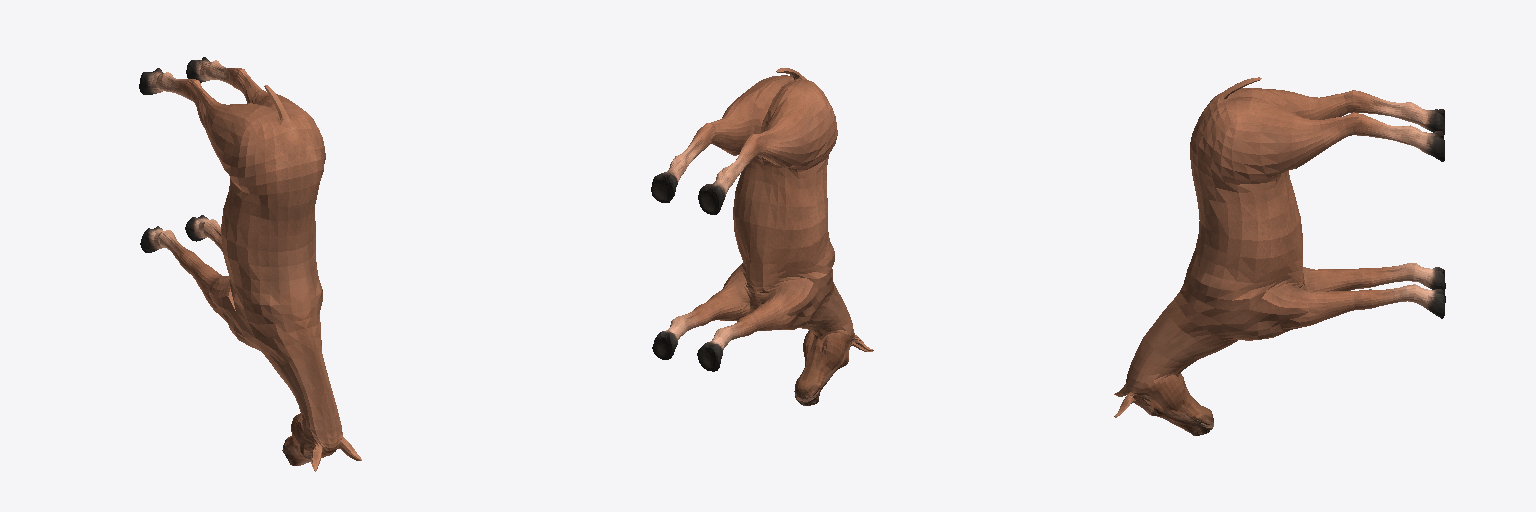
3 views of the same model, side by side, from view 1: azimuth 30°, elevation 25°; view 2: azimuth 150°, elevation 25°; view 3: azimuth 270°, elevation 25° (orthographic).
Visible parts, largest first — view 1: horse_palomino_horse_mesh; view 2: horse_palomino_horse_mesh; view 3: horse_palomino_horse_mesh.
Boxes of the visible parts, x1,y1,x2,y2 form: horse_palomino_horse_mesh: [139, 57, 361, 471]; horse_palomino_horse_mesh: [651, 68, 873, 405]; horse_palomino_horse_mesh: [1114, 77, 1445, 435].
Bounding box in the file's own units: 0.5707 × 2.29 × 1.92.
Materials: 1 (1 with a texture image).